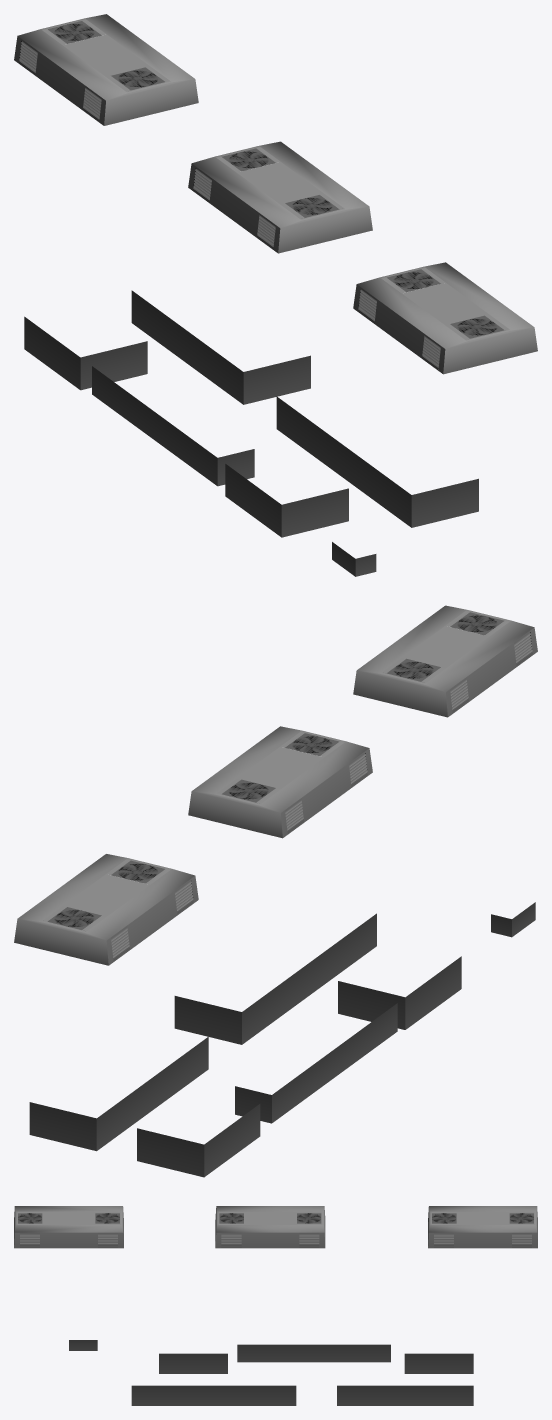
Rendered from 7001_PANTA02.glb.
The picture shows the model from 3 angles, top to bottom: view 1: azimuth 30°, elevation 25°; view 2: azimuth 150°, elevation 25°; view 3: azimuth 270°, elevation 25°; orthographic projection. The views are drawn at different scales.
Visible parts, largest first — view 1: obj3; view 2: obj3; view 3: obj3.
Boxes of the visible parts, box(x1,y1,x2,y2) form: obj3: box(14, 14, 537, 576); obj3: box(14, 605, 537, 1177); obj3: box(14, 1206, 537, 1405).
Size of the model in its own units: 5.53 by 8.04 by 23.54.
Materials: 2 (2 with a texture image).
